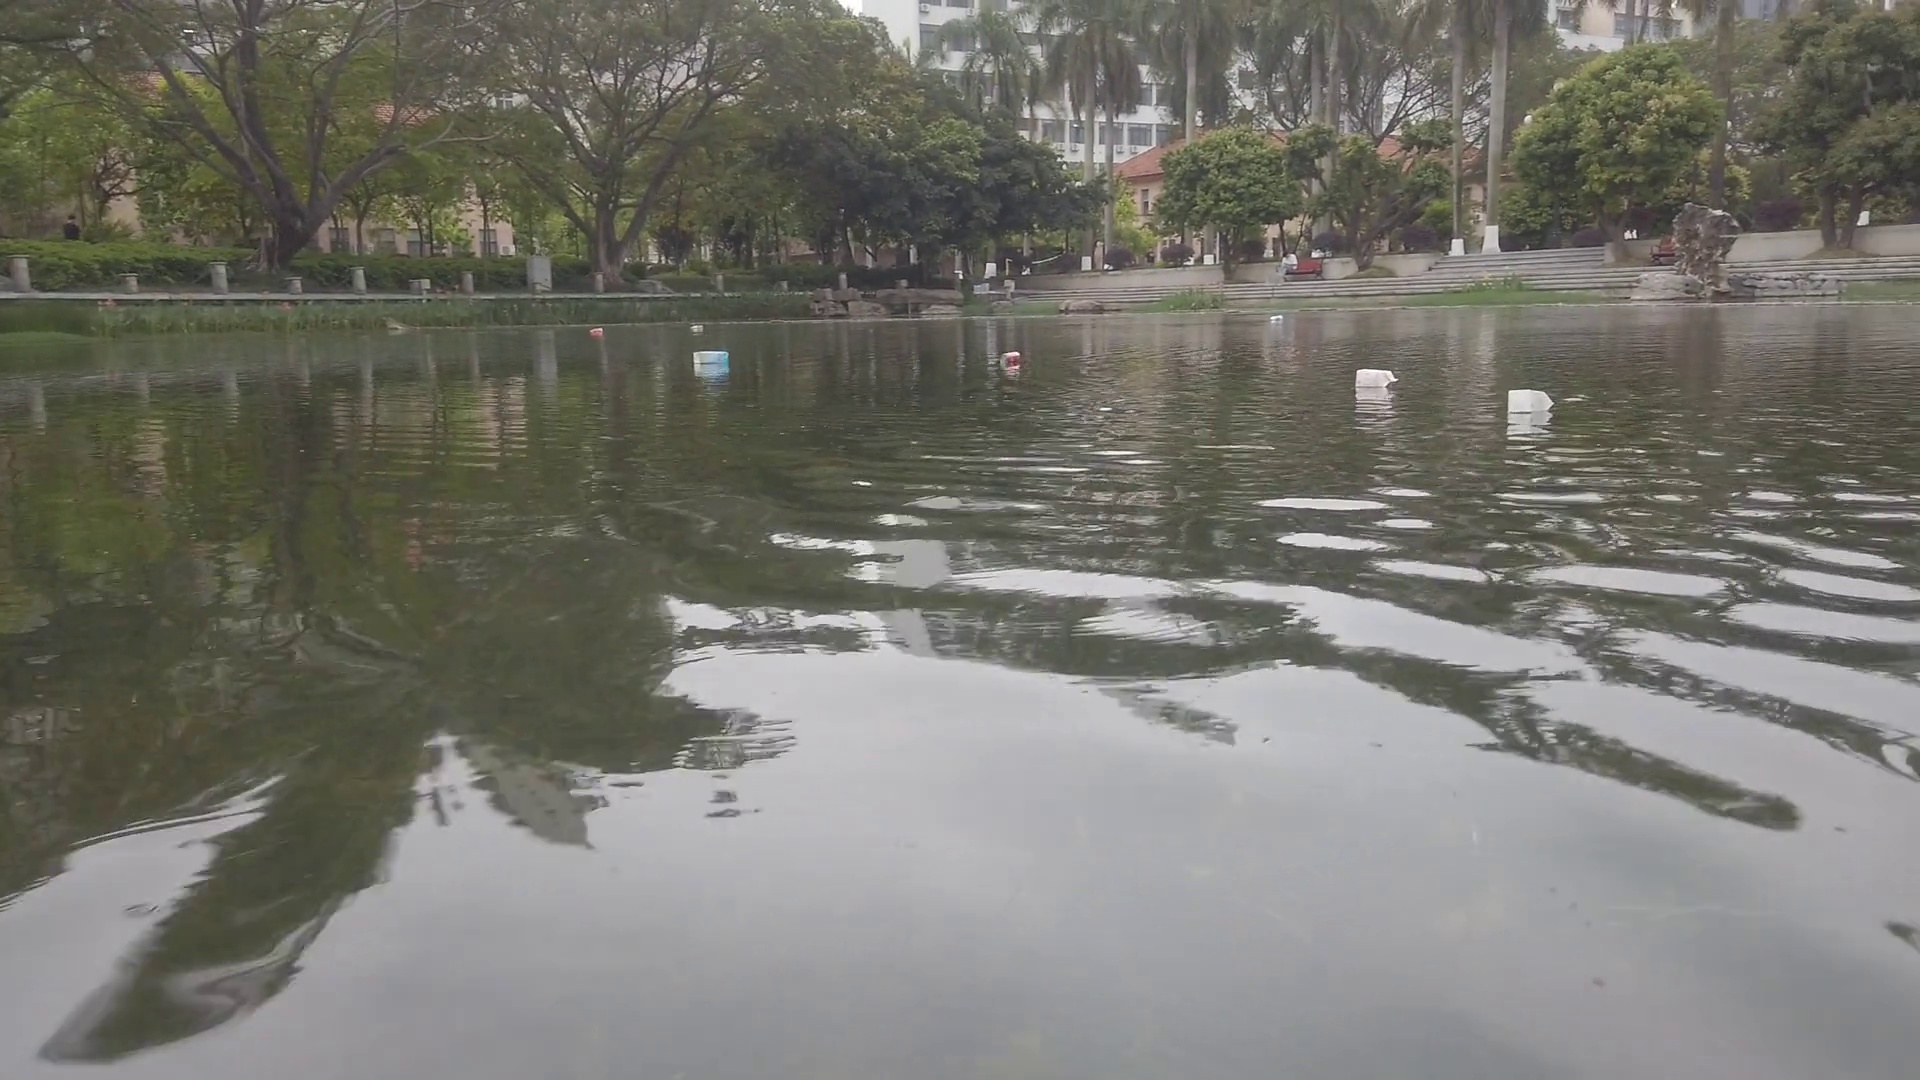bottle: (1001, 349, 1021, 367), (589, 327, 603, 335), (691, 323, 703, 331), (1271, 314, 1284, 320)
carton: (1506, 386, 1551, 417), (1354, 369, 1396, 386), (692, 348, 731, 367)
